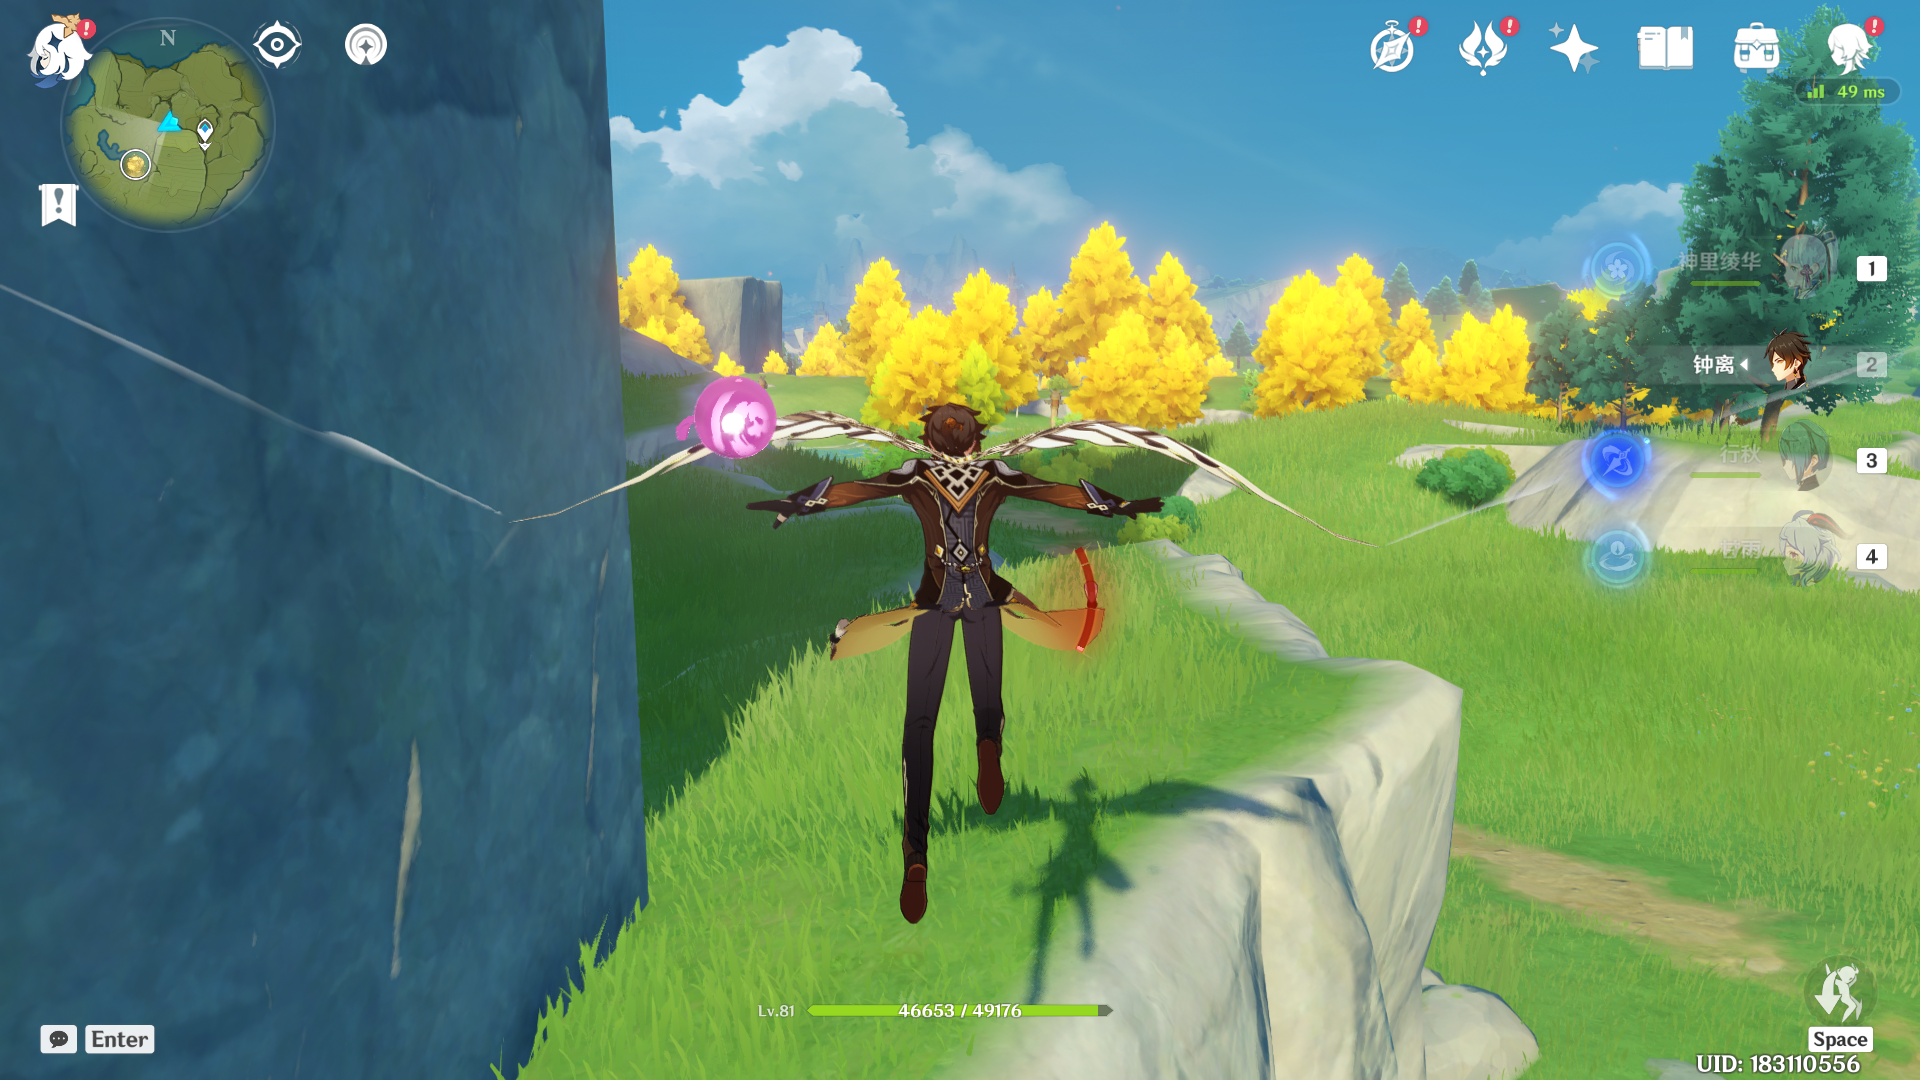character: (781, 378, 1127, 1007)
